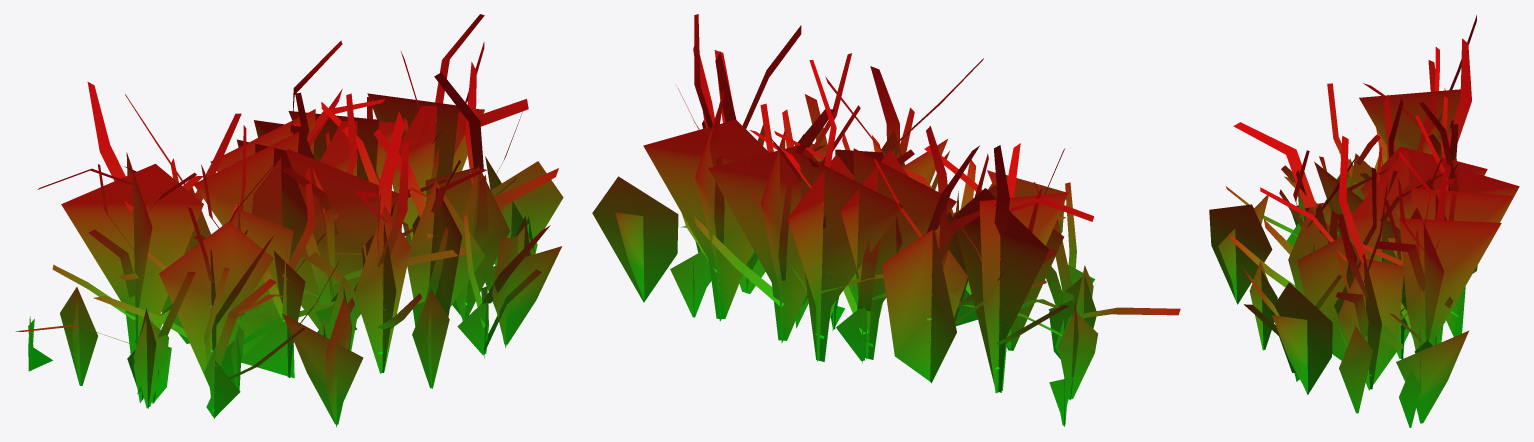
Rendered from Var2_LOD2.fbx.
3 renders of one model, left to right at view 1: azimuth 30°, elevation 25°; view 2: azimuth 150°, elevation 25°; view 3: azimuth 270°, elevation 25°, orthographic. The views are drawn at different scales.
Visible parts, largest first — view 1: _tojd_Var2_LOD2; view 2: _tojd_Var2_LOD2; view 3: _tojd_Var2_LOD2.
Boxes of the visible parts, x1,y1,x2,y2 form: _tojd_Var2_LOD2: (15, 14, 563, 427); _tojd_Var2_LOD2: (592, 14, 1180, 426); _tojd_Var2_LOD2: (1209, 15, 1519, 427).
Bounding box in the file's own units: 51.83 × 25.4 × 27.73.
